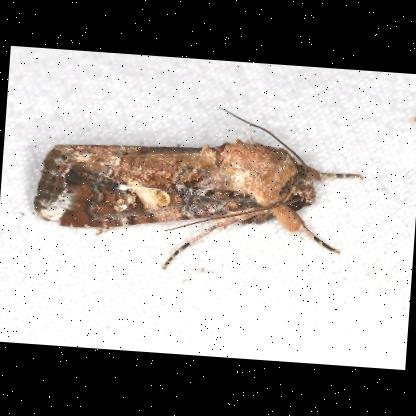Fall Armyworm Moth: (27, 93, 369, 288)
